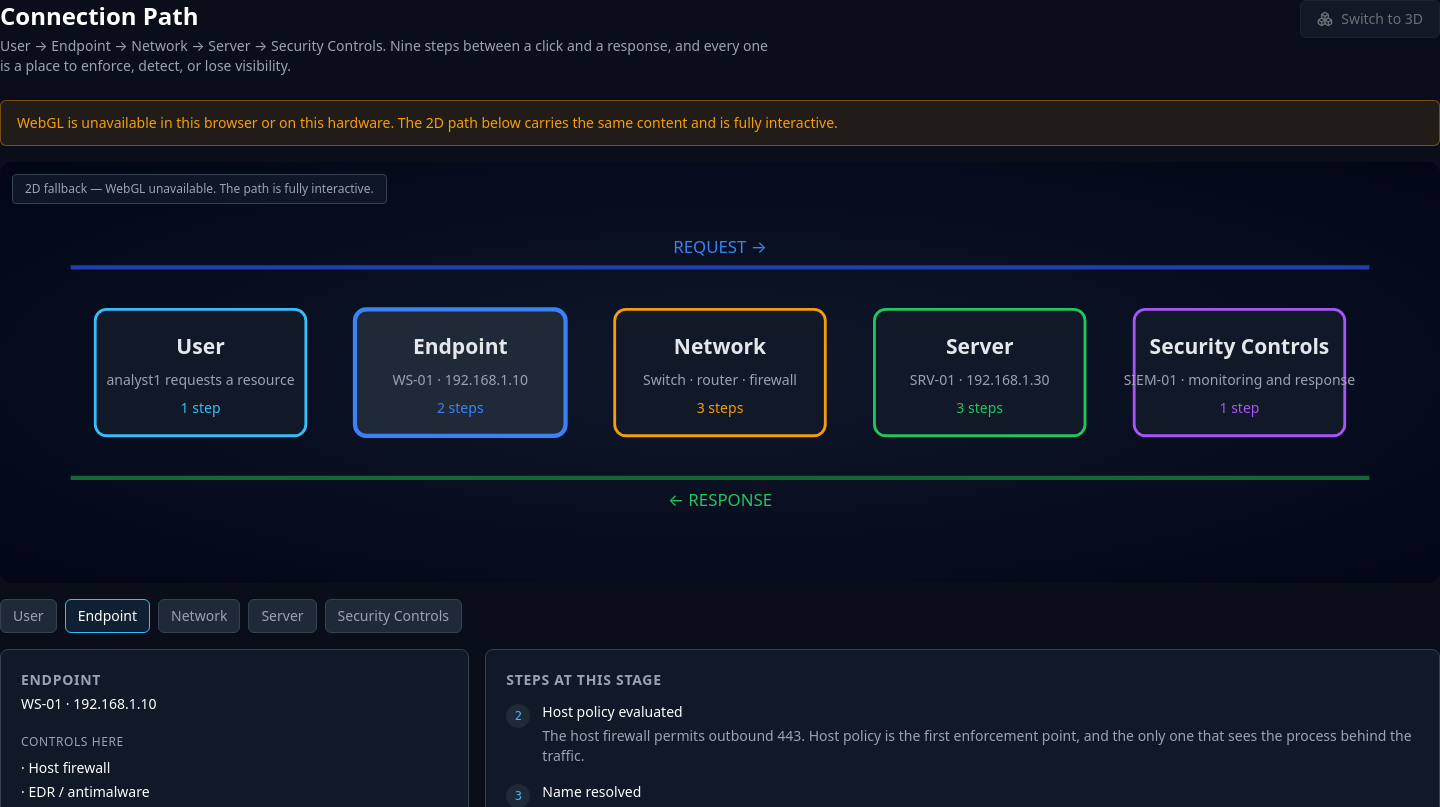
Scenario: PathView › shows controls and detection opportunities for the selected stage
Click the button "Network" at {"x": 199, "y": 616}, box x1=158 y1=599 x2=240 y2=633
(page scrolled)
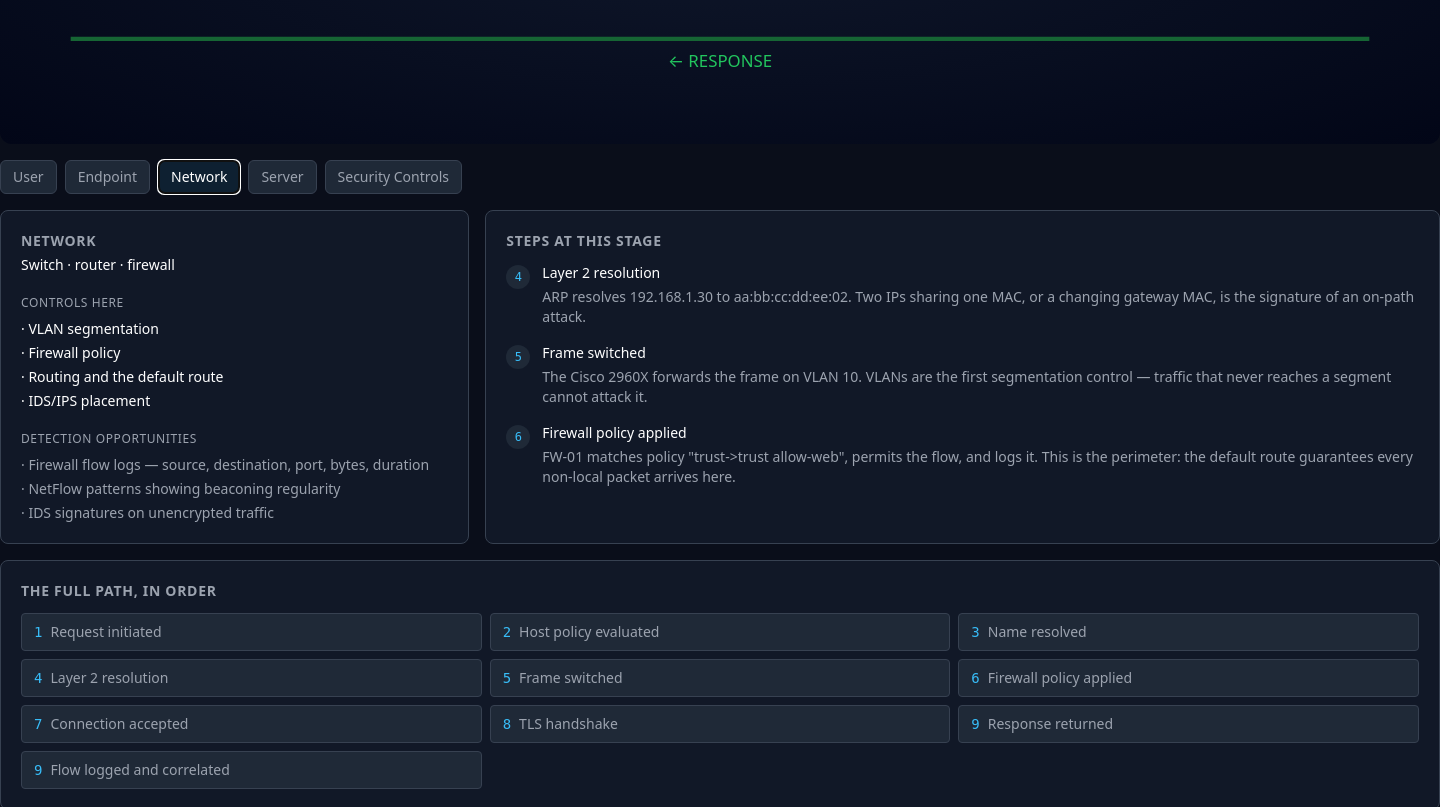
Expected: the heading "Controls here" is shown, x1=21 y1=294 x2=124 y2=311
Now the list item "· Firewall policy" is shown, box x1=21 y1=343 x2=120 y2=362
Now the list item "· Firewall flow logs — source, destination, port, bytes, duration" is shown, box x1=21 y1=455 x2=448 y2=475
